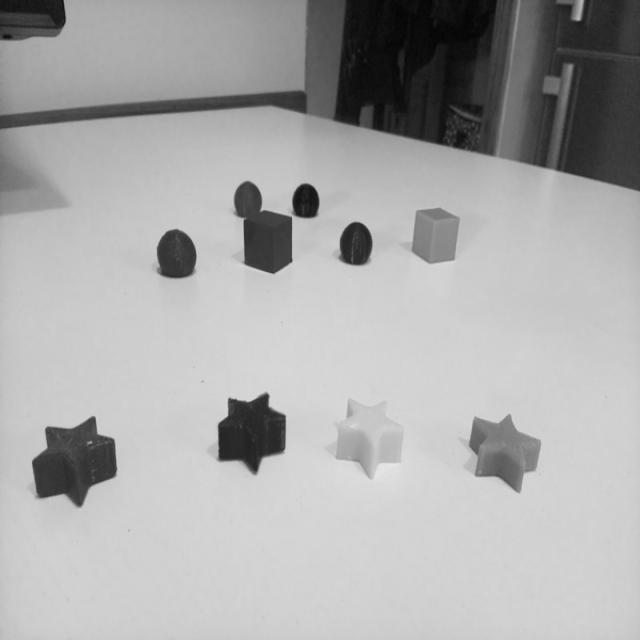ball: (155, 229, 198, 281), (337, 220, 374, 267), (233, 179, 264, 221), (291, 182, 322, 222)
cube: (240, 208, 298, 278), (411, 202, 464, 270)
star: (31, 417, 119, 510), (331, 392, 409, 484), (466, 408, 544, 495), (214, 391, 289, 475)
